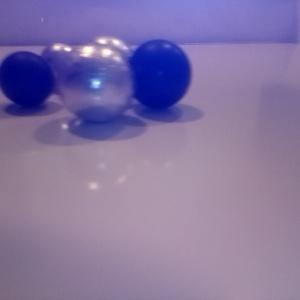alive_ball: (58, 42, 135, 124), (87, 36, 136, 85), (40, 43, 81, 94)
dead_ball: (127, 39, 192, 110), (1, 50, 56, 107)
